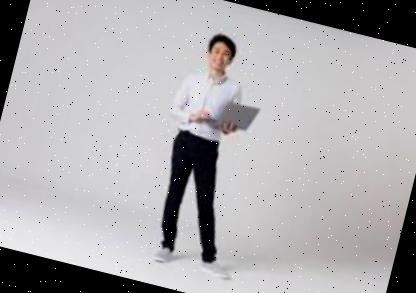person: (128, 18, 292, 287)
